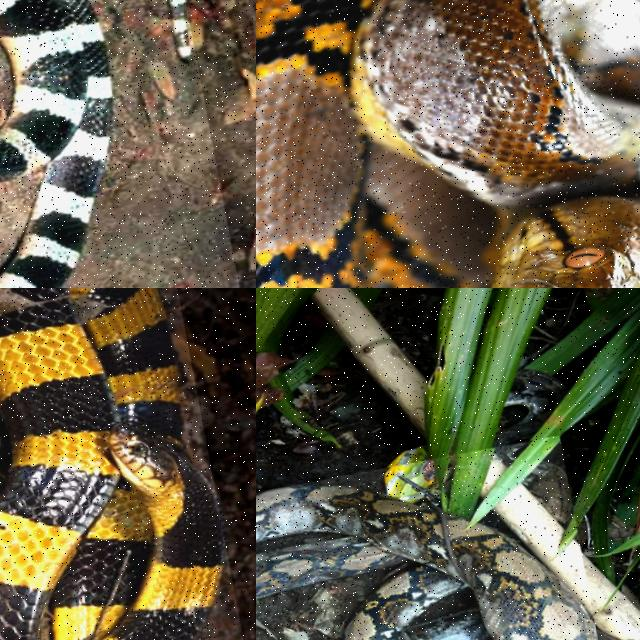Bungarus candidus: (0, 0, 112, 287)
Bungarus fasciatus: (0, 288, 223, 639)
Malayopython reticulatus: (256, 0, 639, 287), (256, 486, 594, 639)
